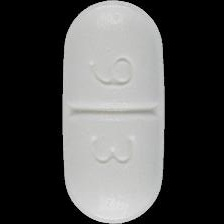68151-1281: (0, 0, 224, 224)
